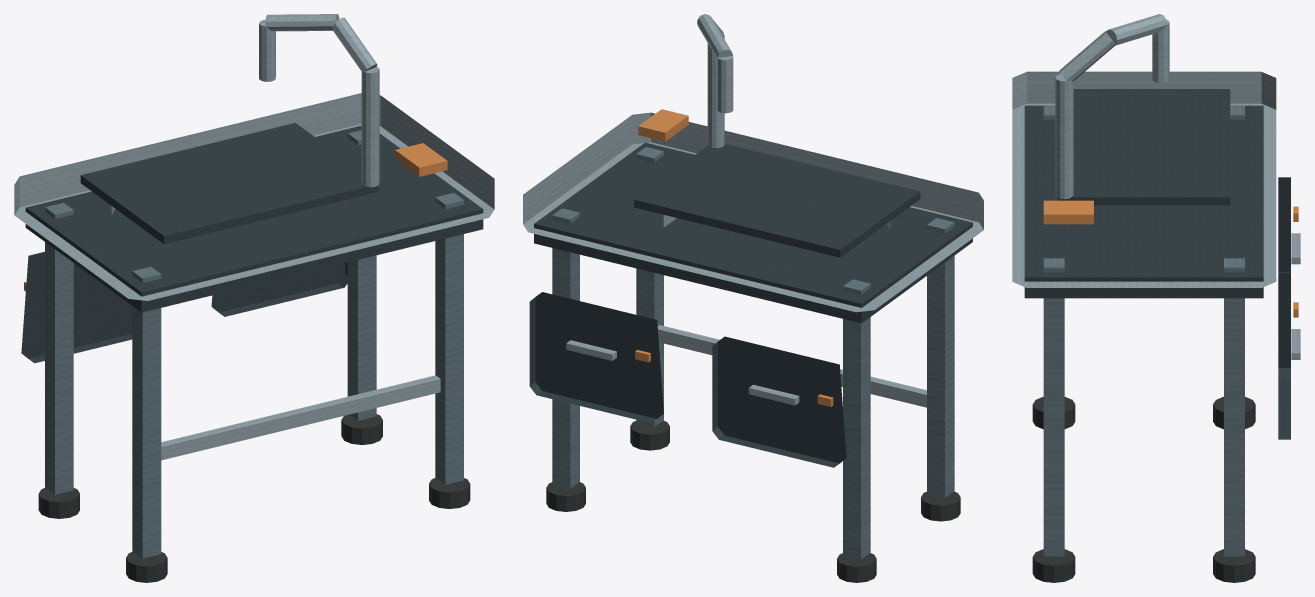
Rendered from galley_sink.glb.
3 renders of one model, left to right at view 1: azimuth 30°, elevation 25°; view 2: azimuth 150°, elevation 25°; view 3: azimuth 270°, elevation 25°, orthographic. The views are drawn at different scales.
Visible parts, largest first — view 1: static__graphite, static__trim, Sink_Rim__graphite, work_surface__alloy, Drawer_Fronts__graphite, Tap__alloy, static__alloy, feet__rubber, Tap_Control__amber; view 2: Drawer_Fronts__graphite, static__graphite, static__trim, Sink_Rim__graphite, work_surface__alloy, feet__rubber, Tap__alloy, static__alloy, Drawer_Handles__alloy, Tap_Control__amber; view 3: static__graphite, Sink_Rim__graphite, static__trim, work_surface__alloy, Tap__alloy, feet__rubber, Drawer_Fronts__graphite, Tap_Control__amber, Drawer_Handles__alloy.
Boxes of the visible parts, x1,y1,x2,y2 form: static__graphite: (25,125,483,312); static__trim: (45,130,463,558); Sink_Rim__graphite: (80,123,378,244); work_surface__alloy: (14,93,494,300); Drawer_Fronts__graphite: (21,252,347,363); Tap__alloy: (259,14,379,187); static__alloy: (161,375,440,460); feet__rubber: (38,414,470,582); Tap_Control__amber: (395,143,447,176); Drawer_Fronts__graphite: (529,292,846,467); static__graphite: (534,142,972,323); static__trim: (552,147,954,559); Sink_Rim__graphite: (634,144,920,257); work_surface__alloy: (523,112,983,312); feet__rubber: (546,420,960,582); Tap__alloy: (697,14,733,147); static__alloy: (657,325,926,407); Drawer_Handles__alloy: (566,340,799,405); Tap_Control__amber: (638,109,688,141); static__graphite: (1024,105,1263,298); Sink_Rim__graphite: (1058,89,1230,205); static__trim: (1043,106,1244,556); work_surface__alloy: (1012,71,1276,287); Tap__alloy: (1055,14,1169,199); feet__rubber: (1032,396,1255,582); Drawer_Fronts__graphite: (1278,177,1290,439); Tap_Control__amber: (1043,200,1093,224); Drawer_Handles__alloy: (1291,233,1300,359).
Bounding box in the file's own units: 1.04 × 1.32 × 0.6885.
Materials: 6 (6 with a texture image).
